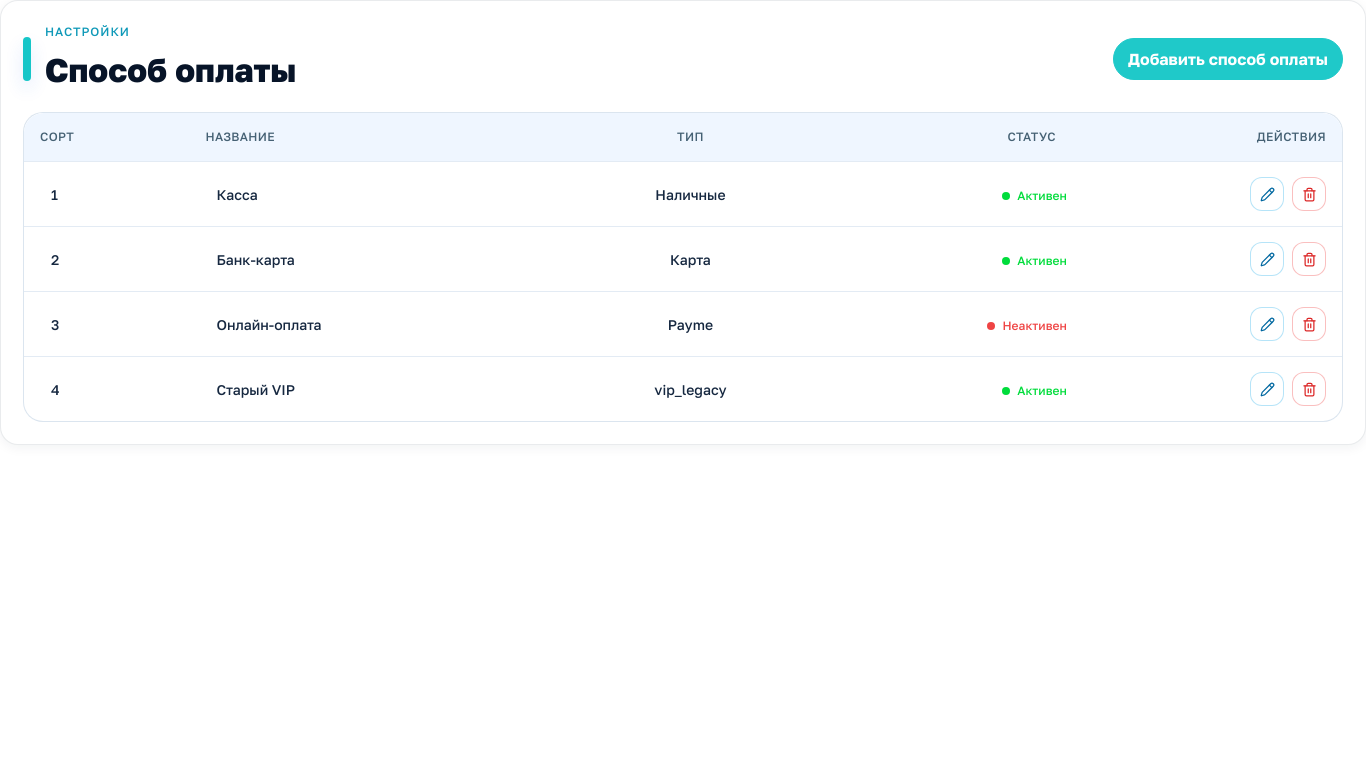
Test: SettingsPaymentMethodsPage — create & edit › presents create/edit as a centered modal that closes on Отмена
Expected: the text "Касса" is shown, x1=190 y1=161 x2=560 y2=226
What coordinates should you click on to do the following:
click the button "Добавить способ оплаты"
I would click on:
 (1228, 59)
Its box is x1=1113 y1=38 x2=1343 y2=80.
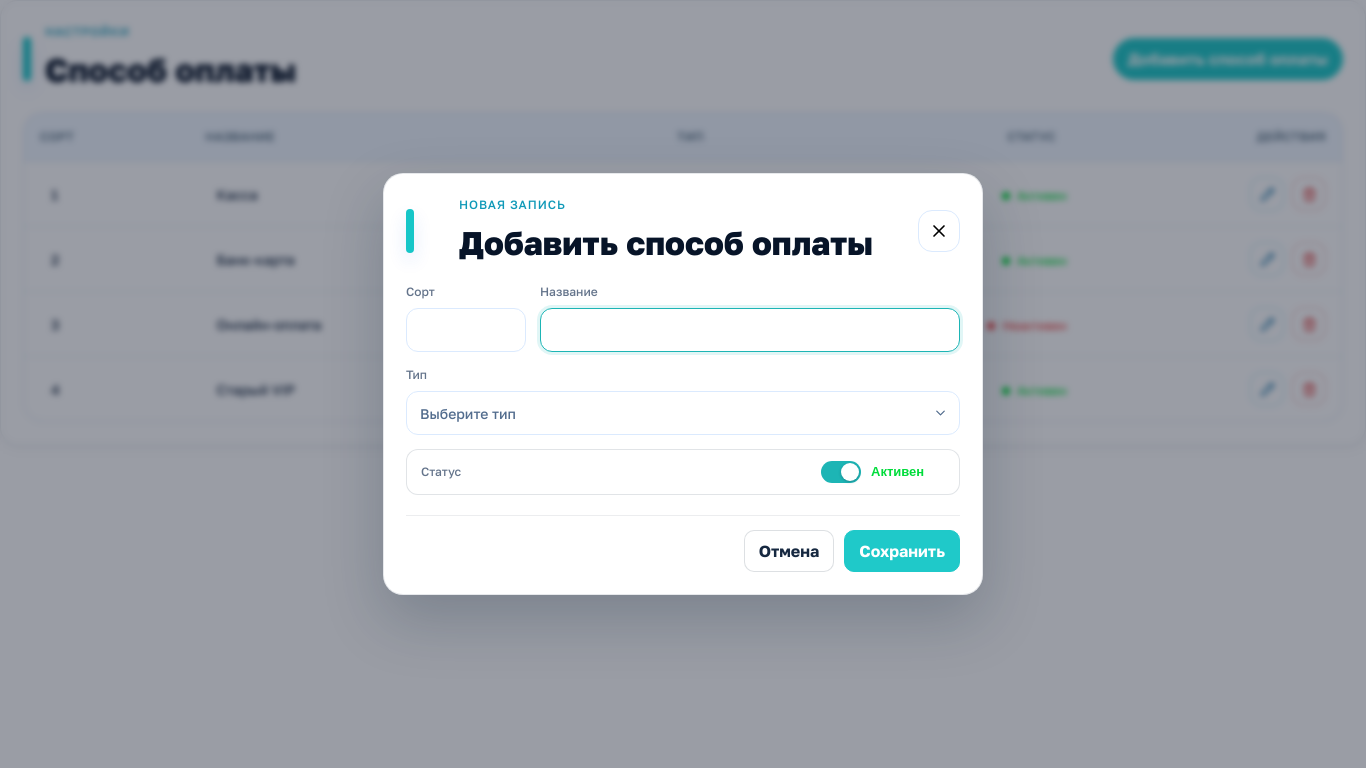
Now the heading "Добавить способ оплаты" is shown, box x1=459 y1=218 x2=873 y2=267
What coordinates should you click on to do the following:
click the button "Отмена"
I would click on:
 (789, 551)
Its box is x1=744 y1=530 x2=834 y2=572.
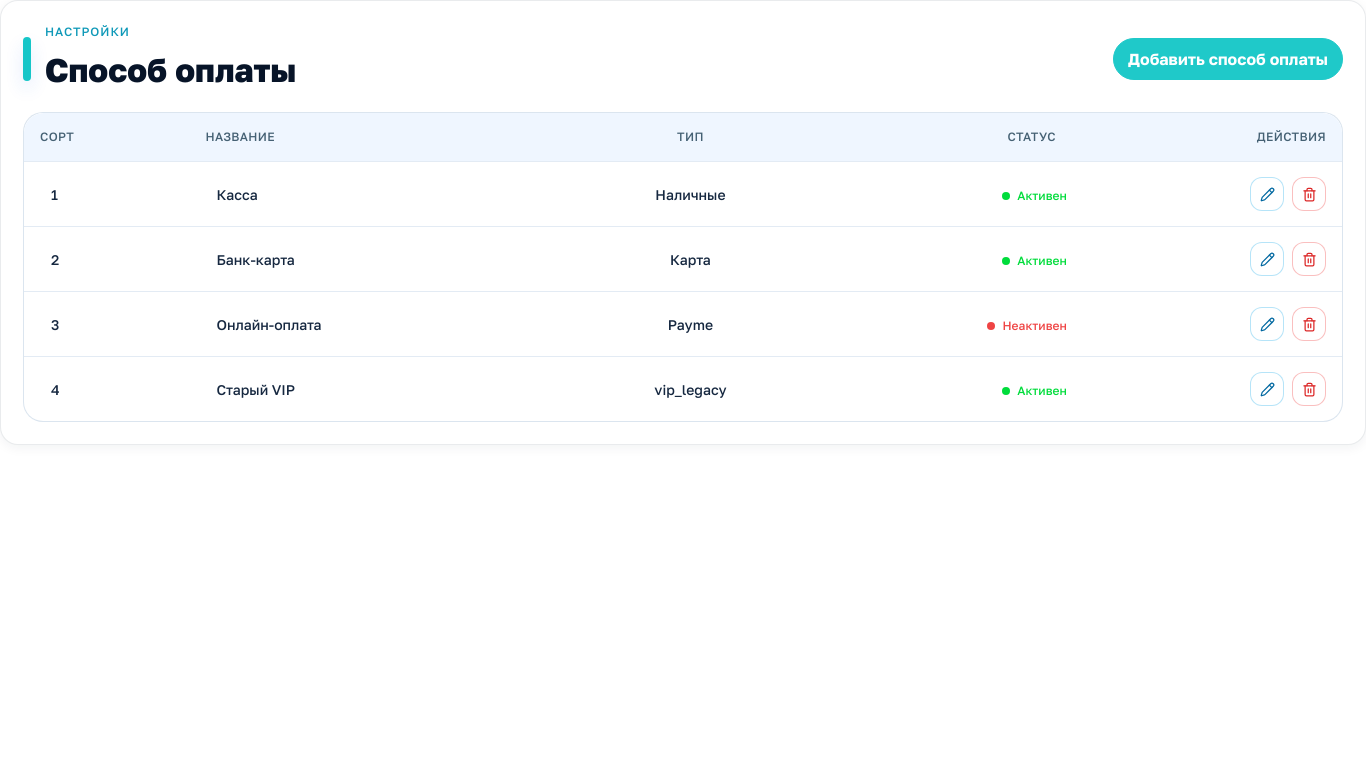
Now the dialog is gone
